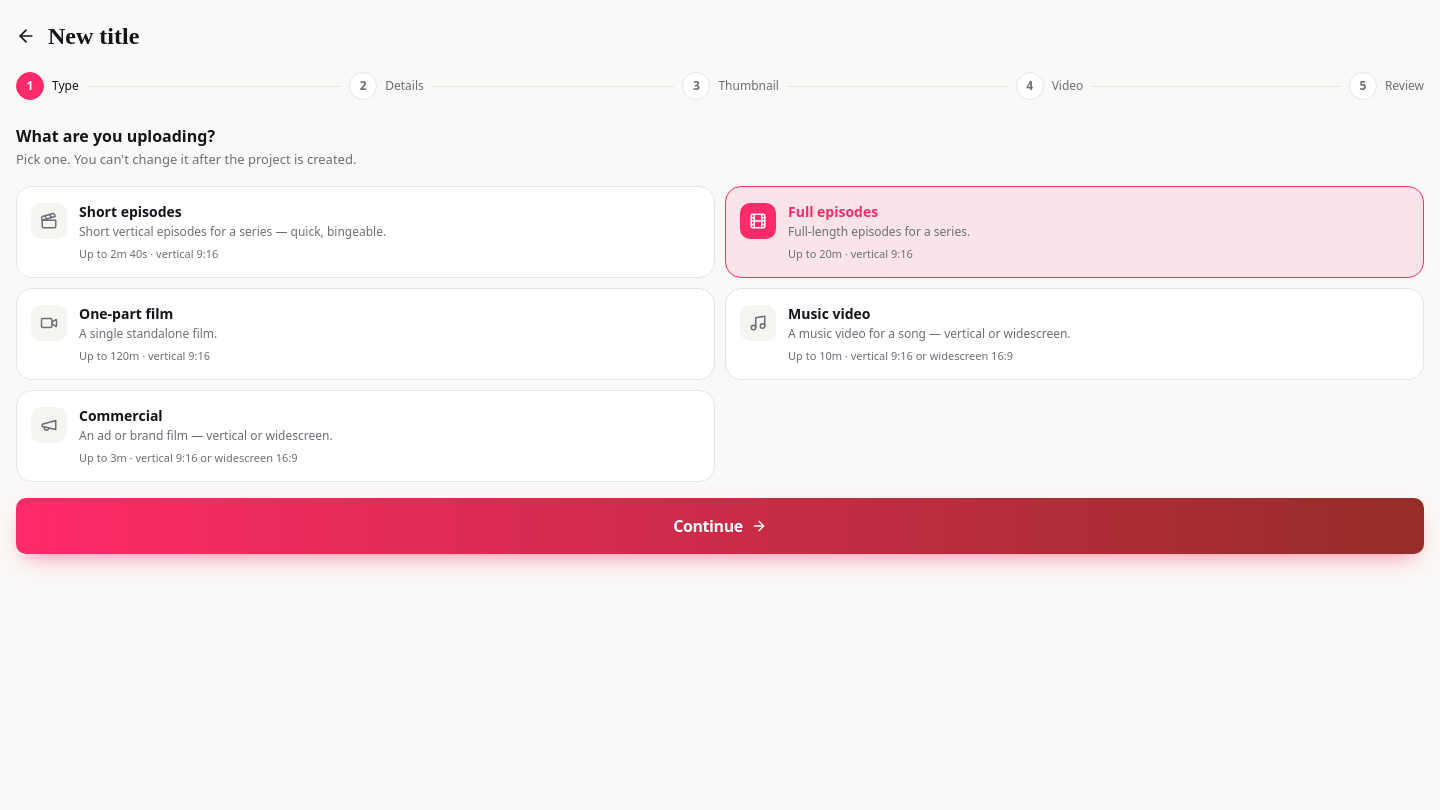
Test: safe to deploy before the database migration is applied › series/film projects never send the new credit_name column
Click the button "Continue" at [720, 526], box [16,498,1424,554]
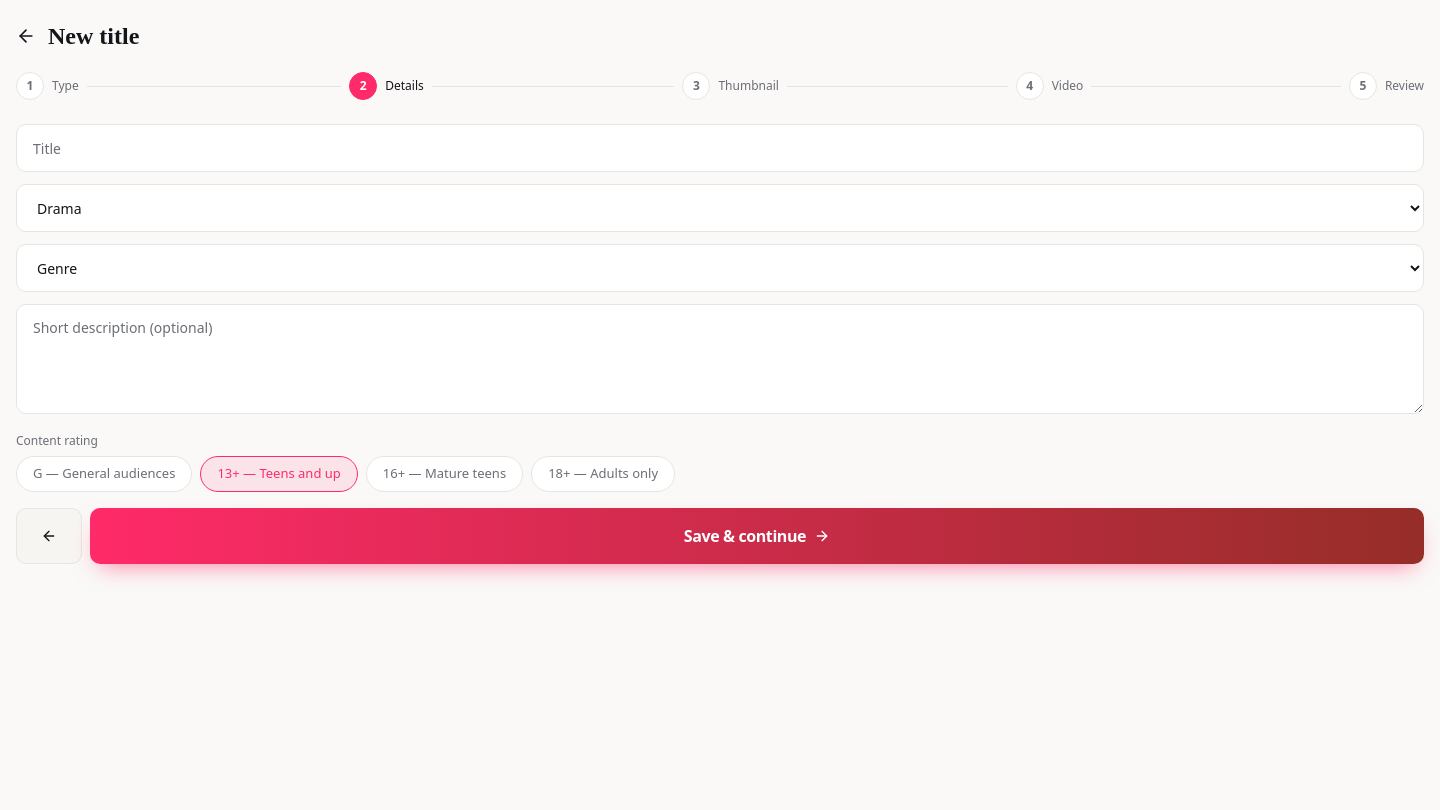
Type "Plain Series" into the field with placeholder "Title" at [720, 148], box [16,124,1424,172]
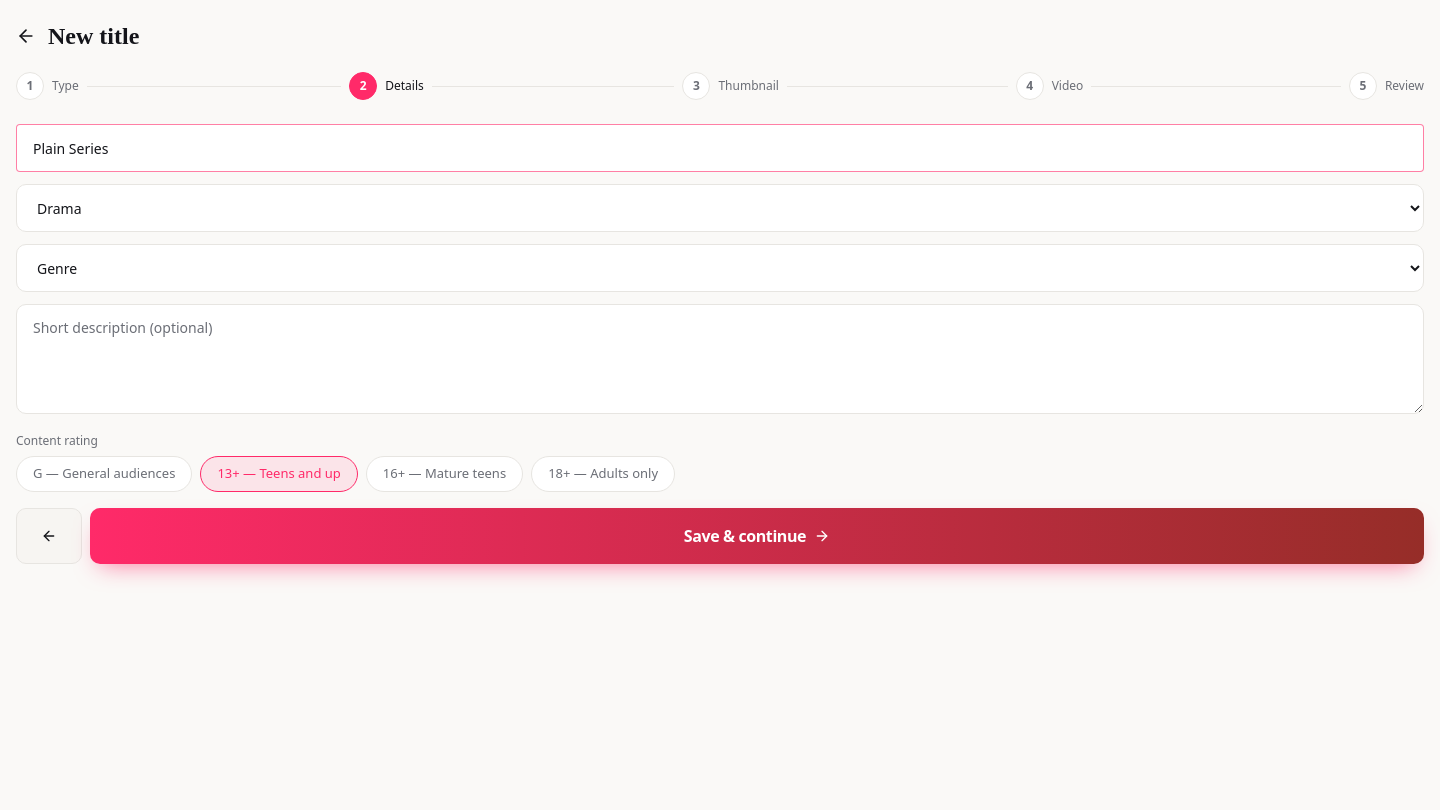
Select "Drama" in the dropdown named "Category" at [720, 208], box [16,184,1424,232]
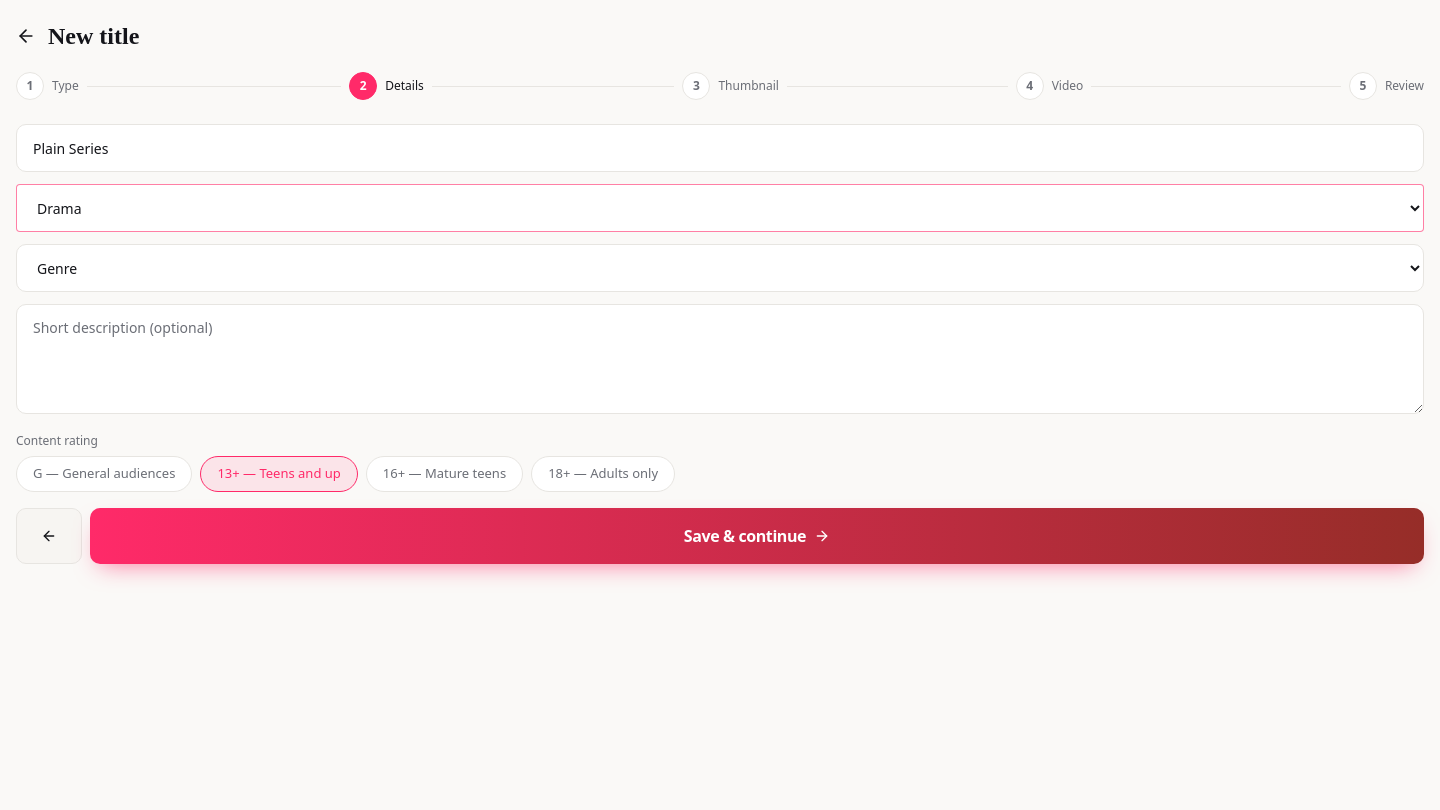
Select "Drama" in the dropdown named "Genre" at [720, 268], box [16,244,1424,292]
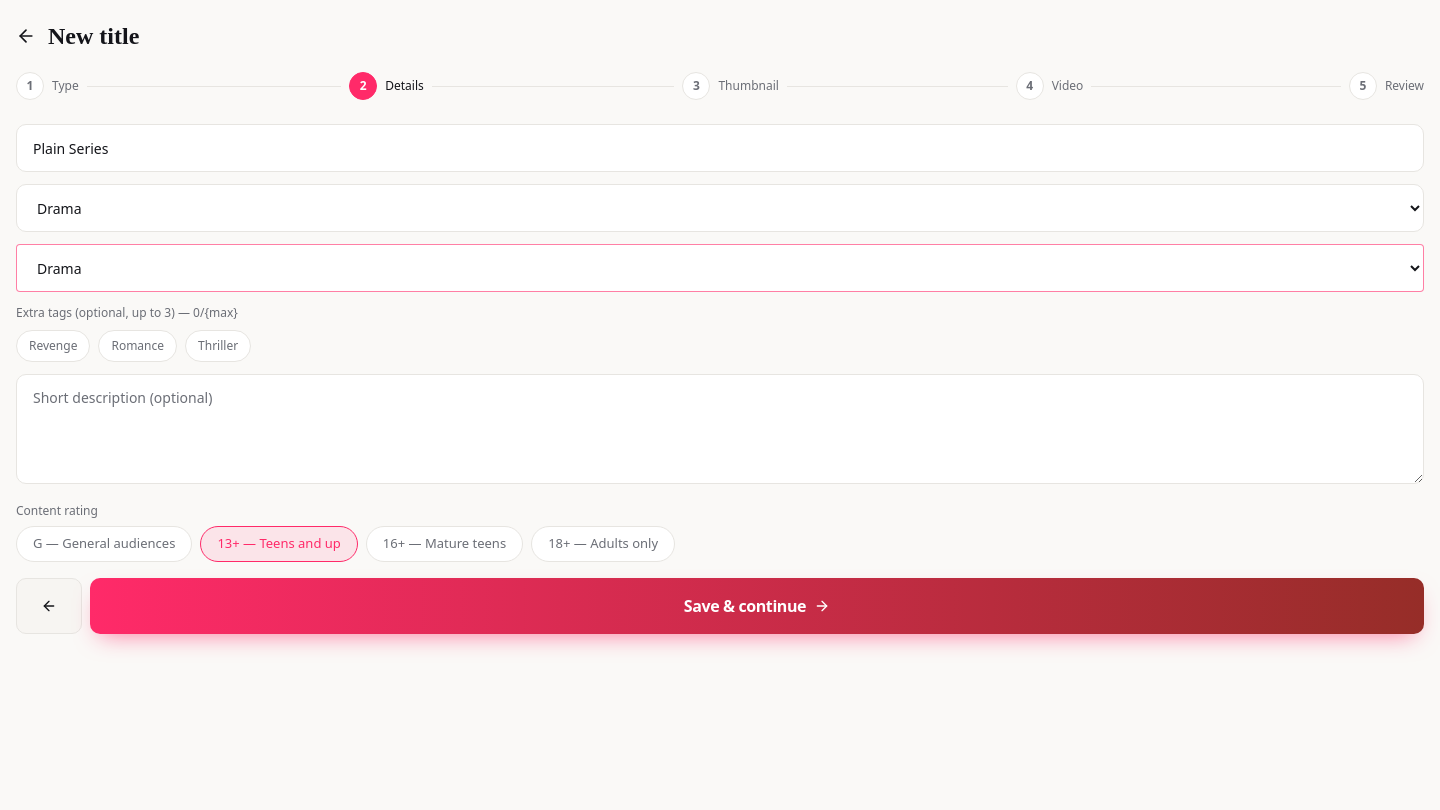
Type "A story." into the text box with placeholder "Short description (optional)" at [720, 429], box [16,374,1424,484]
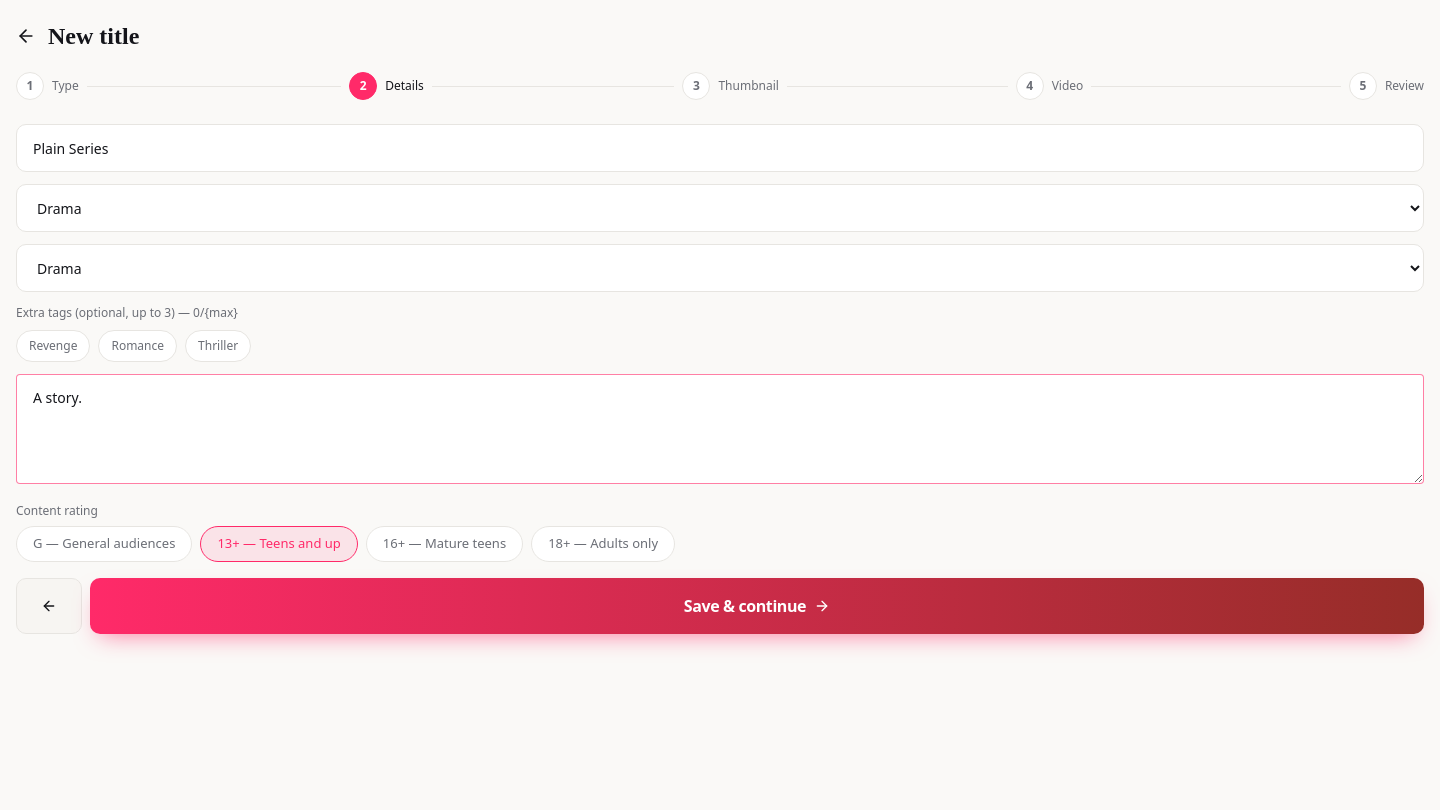
Click the button "Save & continue" at [757, 606], box [90,578,1424,634]
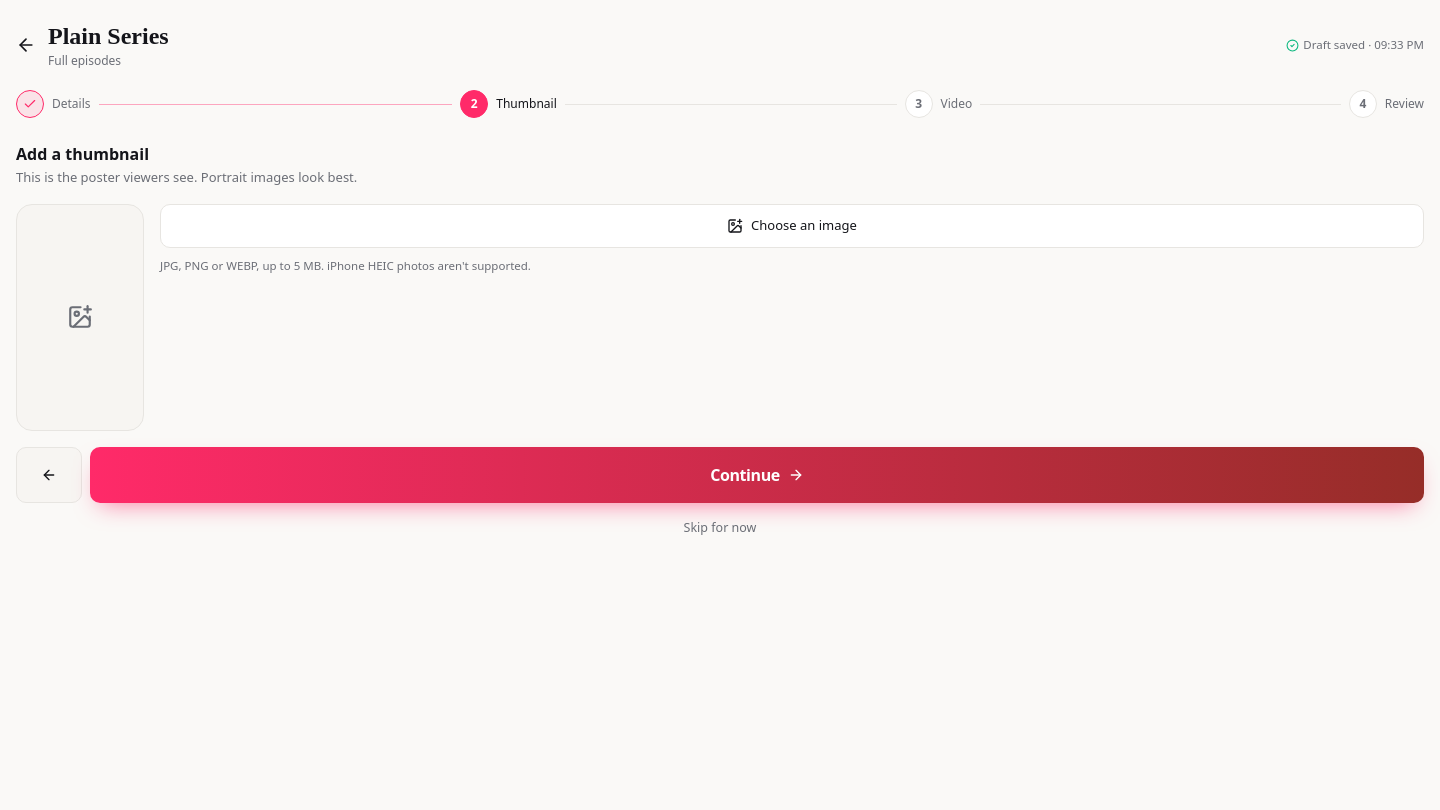
Expected: the heading "Add a thumbnail" is shown, [16,143,149,165]
